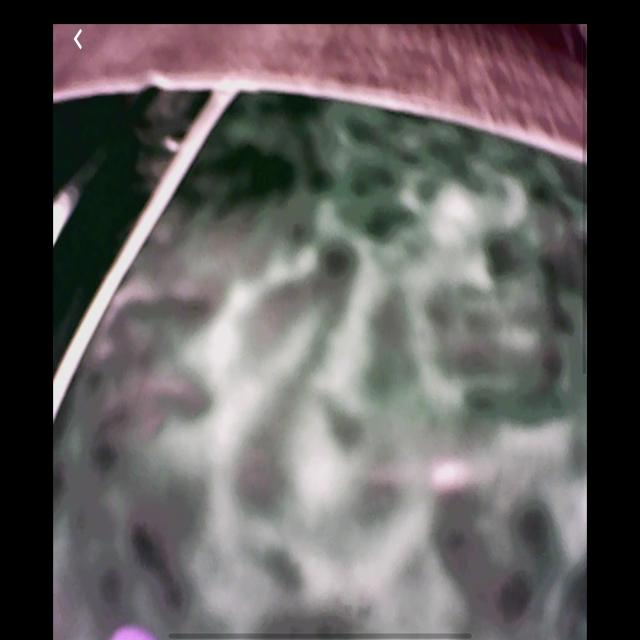ball: (110, 624, 158, 640)
